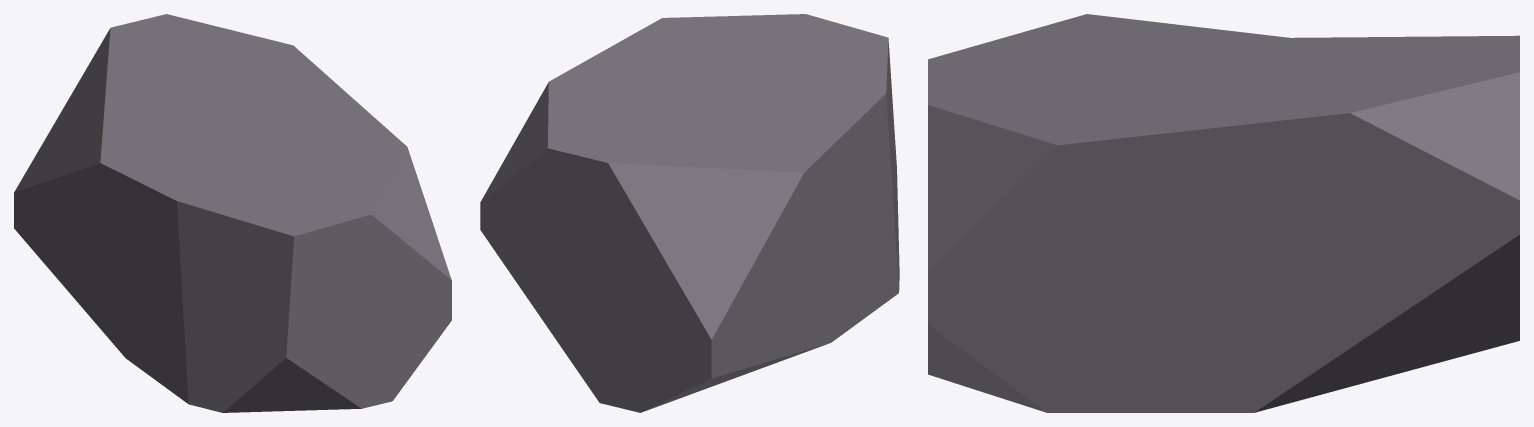
The model's file is stone_light_gray_2.fbx.
3 renders of one model, left to right at view 1: azimuth 30°, elevation 25°; view 2: azimuth 150°, elevation 25°; view 3: azimuth 270°, elevation 25°, orthographic. The views are drawn at different scales.
Parts seen in each view (by area): view 1: Cube.003; view 2: Cube.003; view 3: Cube.003.
Part boxes in pixels (x1,y1,x2,y2): Cube.003: (14, 14, 451, 412); Cube.003: (480, 14, 899, 412); Cube.003: (928, 14, 1519, 412).
Size of the model in its own units: 110 by 108 by 193.
